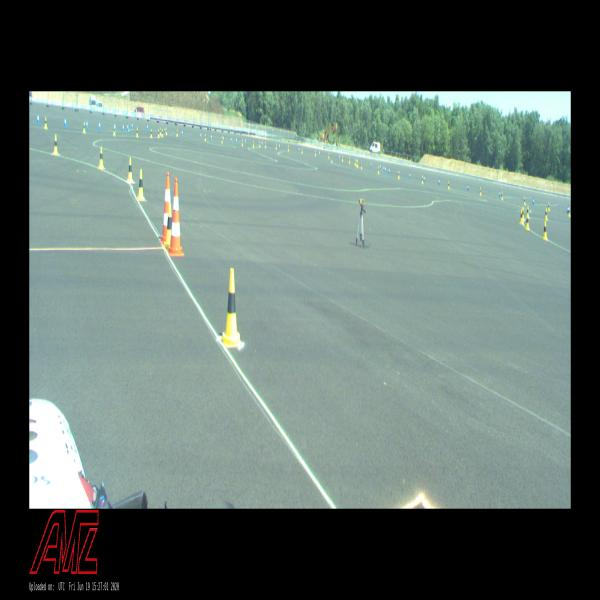blue_cone: (64, 117, 67, 126), (37, 113, 39, 124), (122, 124, 125, 131), (86, 119, 88, 129), (99, 121, 101, 130), (127, 123, 129, 131), (423, 174, 425, 182), (438, 178, 440, 185), (499, 190, 501, 197), (532, 198, 534, 205), (467, 183, 469, 190), (409, 172, 411, 179), (200, 132, 202, 138), (164, 127, 166, 133), (147, 124, 149, 130), (231, 138, 233, 142), (115, 123, 116, 131), (182, 129, 183, 136), (567, 206, 568, 213), (132, 123, 133, 129), (211, 134, 212, 140)
large_orange_cone: (167, 179, 184, 256), (160, 172, 171, 242)
yellow_cone: (221, 269, 241, 346), (164, 204, 172, 249), (137, 170, 145, 200), (127, 158, 133, 182), (98, 147, 104, 168), (52, 134, 58, 154), (543, 222, 548, 240), (526, 214, 530, 229), (519, 209, 523, 224), (526, 206, 530, 219), (44, 117, 48, 128), (545, 209, 548, 220), (83, 122, 86, 133), (113, 125, 116, 136), (523, 197, 526, 206), (150, 129, 153, 138), (136, 128, 139, 137), (522, 207, 524, 220), (447, 181, 450, 189), (479, 187, 482, 195), (548, 202, 550, 211), (398, 171, 400, 179), (422, 176, 424, 184), (158, 129, 160, 137), (568, 208, 570, 216), (176, 129, 178, 136), (501, 192, 503, 199), (259, 142, 261, 148), (378, 166, 379, 174), (222, 136, 223, 144), (162, 129, 163, 137), (205, 134, 206, 141), (166, 128, 167, 135), (160, 128, 161, 135), (242, 140, 243, 146), (253, 141, 254, 147), (276, 144, 277, 150)
